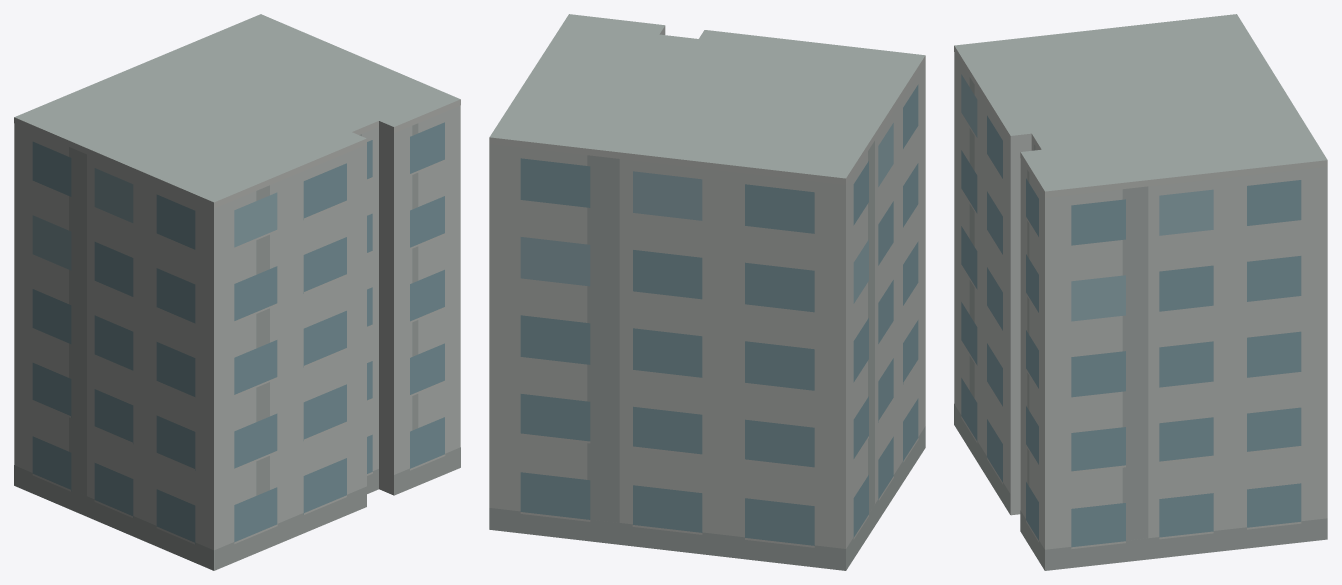
File: survey-upis-32704224.glb
3 renders of one model, left to right at view 1: azimuth 30°, elevation 25°; view 2: azimuth 150°, elevation 25°; view 3: azimuth 270°, elevation 25°, orthographic. The views are drawn at different scales.
Visible parts, largest first — view 1: survey-upis-32704224.tmp; view 2: survey-upis-32704224.tmp; view 3: survey-upis-32704224.tmp.
Boxes of the visible parts, x1,y1,x2,y2 form: survey-upis-32704224.tmp: (14, 14, 460, 570); survey-upis-32704224.tmp: (489, 14, 925, 570); survey-upis-32704224.tmp: (954, 14, 1327, 570).
Bounding box in the file's own units: 14.66 × 14.6 × 13.04.
